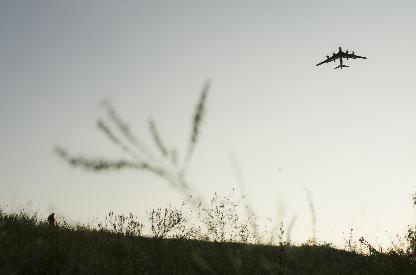Su57: (316, 45, 366, 69)
